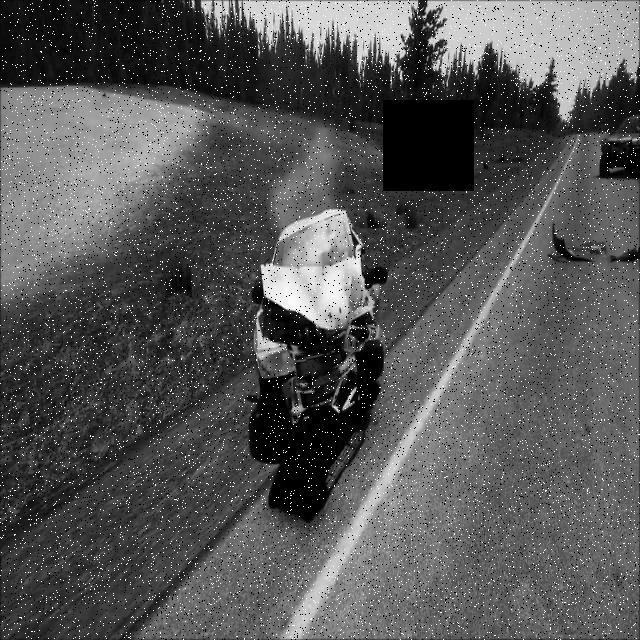severe: (250, 198, 390, 452)
